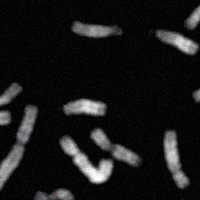chromosome: (0, 103, 37, 196), (61, 136, 112, 183), (91, 126, 140, 166), (163, 130, 188, 187), (155, 29, 199, 56), (71, 20, 124, 38), (63, 99, 106, 119), (0, 82, 22, 105), (36, 187, 74, 200), (0, 110, 11, 154), (185, 0, 200, 29), (193, 55, 200, 102)
